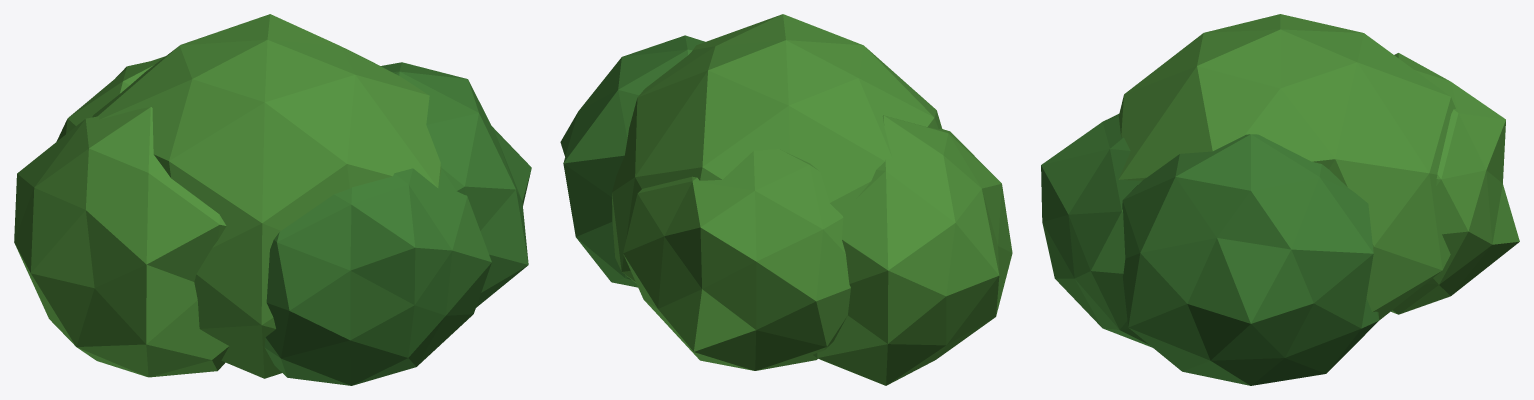
File: bush_round_01.glb
The picture shows the model from 3 angles, left to right: view 1: azimuth 30°, elevation 25°; view 2: azimuth 150°, elevation 25°; view 3: azimuth 270°, elevation 25°; orthographic projection. The views are drawn at different scales.
Parts seen in each view (by area): view 1: bush_round_01_foliage (×2); view 2: bush_round_01_foliage (×2); view 3: bush_round_01_foliage (×2).
Boxes of the visible parts, x1,y1,x2,y2 form: bush_round_01_foliage (×2): [14, 14, 531, 385]; bush_round_01_foliage (×2): [560, 14, 1012, 385]; bush_round_01_foliage (×2): [1041, 14, 1519, 385].
Bounding box in the file's own units: 1.84 × 1.19 × 1.62.
